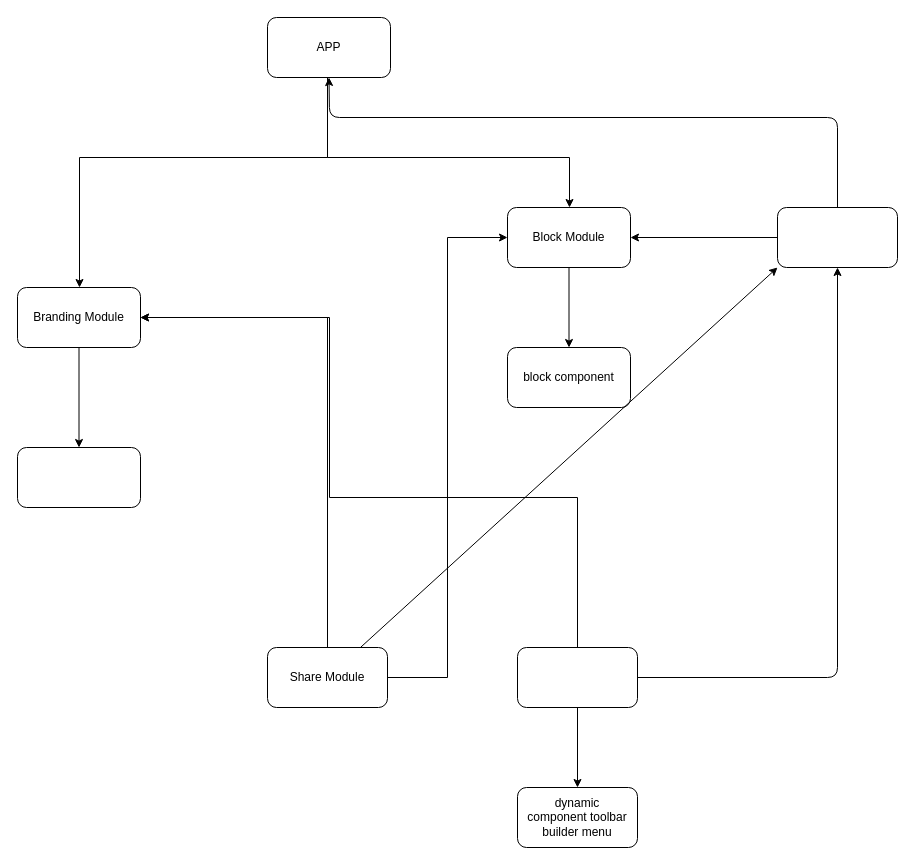
Some shapes in this 915 by 865 pixel diagram are drawn without their labels. Each missing label, with the centre of its shape:
"Builder Module" belongs at [837,237].
"Header footer manage sidebar" belongs at [78,477].
"Widget Module" belongs at [577,677].
